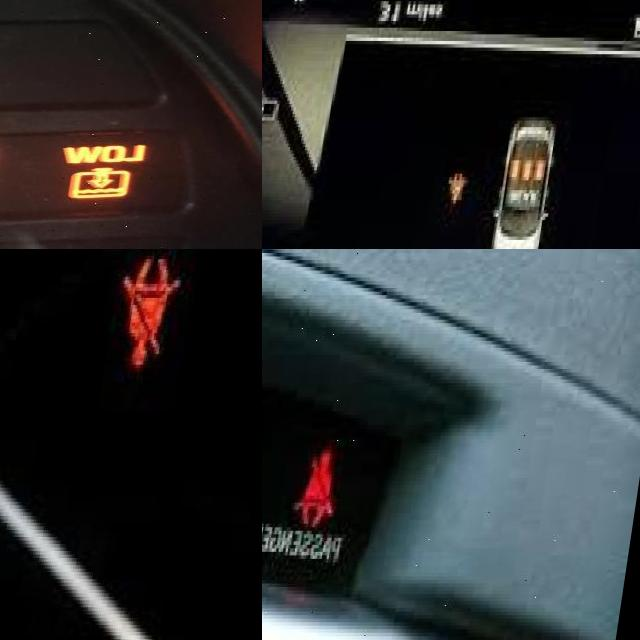Seat Belt: (121, 254, 189, 368), (304, 442, 354, 526), (455, 172, 477, 202)
